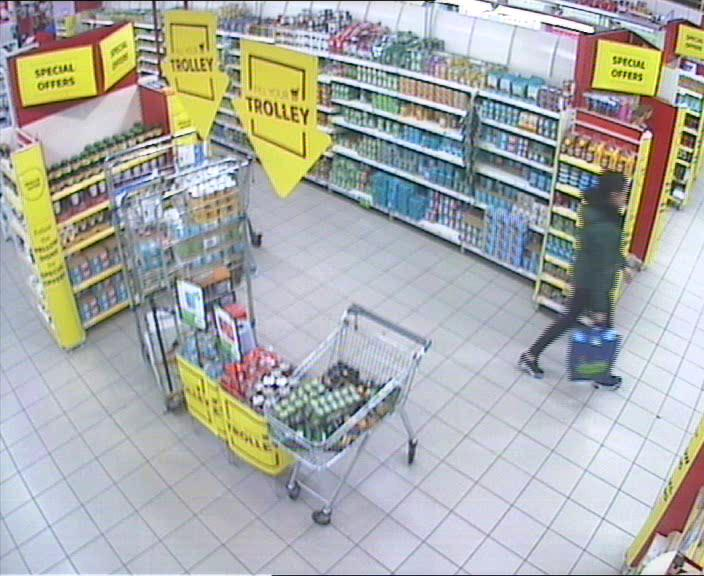filled-shopping-bags: (568, 322, 620, 383)
person: (517, 169, 635, 391)
person-with-filled-shopping-bag-s-: (517, 169, 634, 390)
